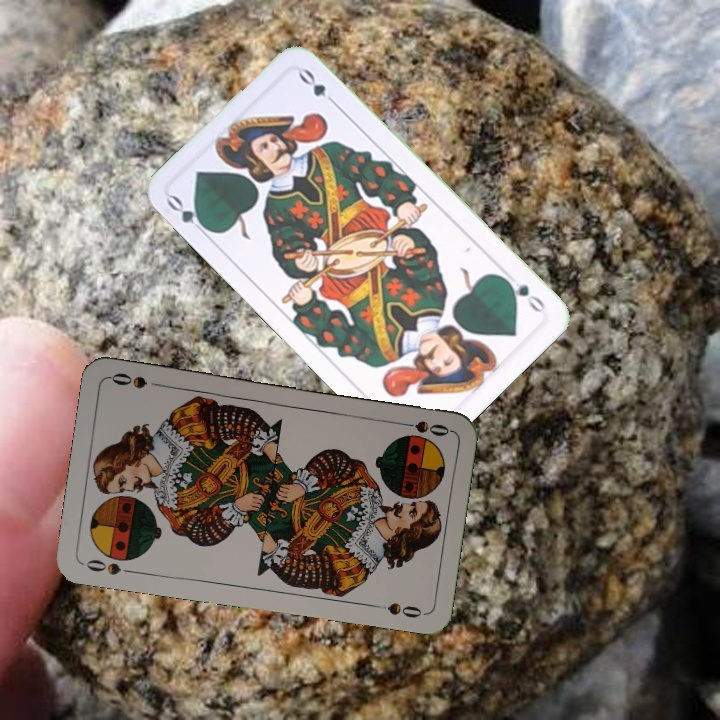GO: (162, 191, 214, 240), (499, 273, 548, 316)
SO: (393, 416, 452, 439), (80, 555, 138, 578)
